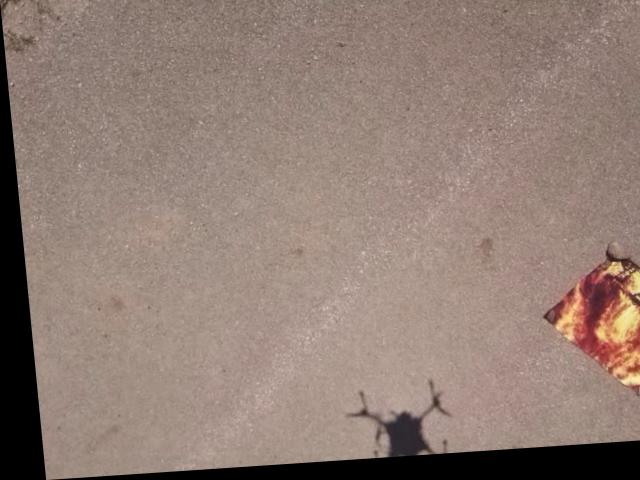fire-poster: (530, 251, 640, 412)
